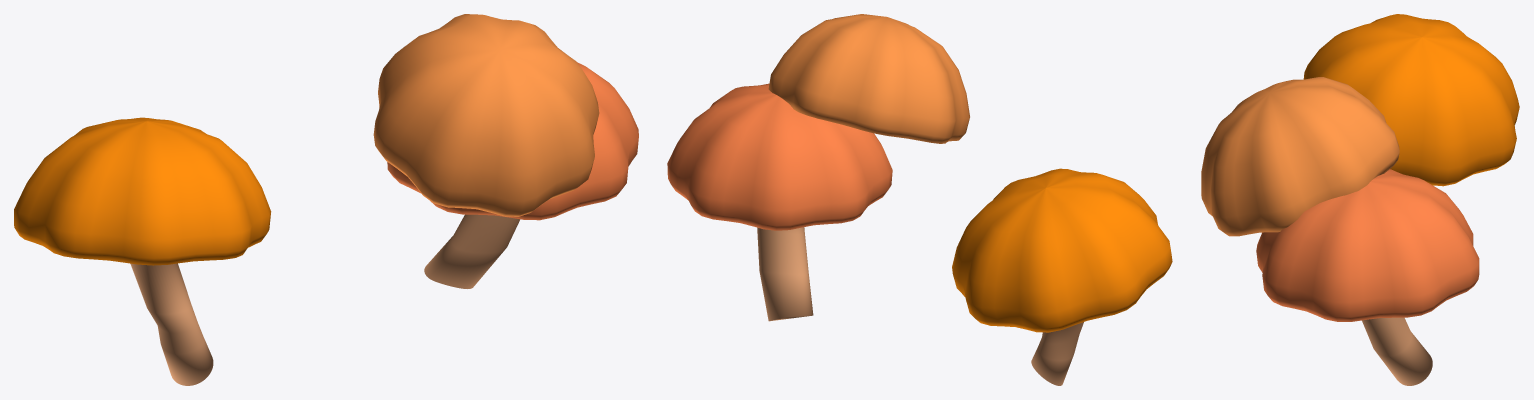
Rendered from MushroomSet7.fbx.
3 views of the same model, side by side, from view 1: azimuth 30°, elevation 25°; view 2: azimuth 150°, elevation 25°; view 3: azimuth 270°, elevation 25° (orthographic). The views are drawn at different scales.
Parts seen in each view (by area): view 1: FunkyMushrooms2; view 2: FunkyMushrooms2; view 3: FunkyMushrooms2.
Part boxes in pixels (bbox=[...]): FunkyMushrooms2: bbox=[14, 14, 638, 385]; FunkyMushrooms2: bbox=[667, 14, 1172, 385]; FunkyMushrooms2: bbox=[1201, 14, 1519, 385].
Bounding box in the file's own units: 40.89 × 22.36 × 22.48.
